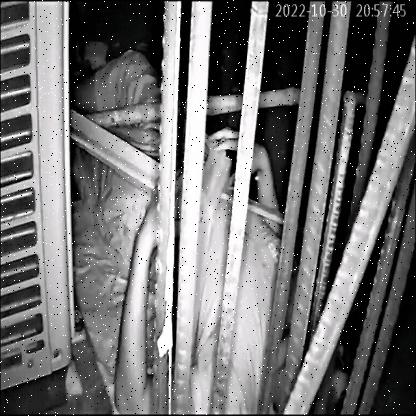hand: (106, 187, 164, 416), (211, 122, 286, 232)
